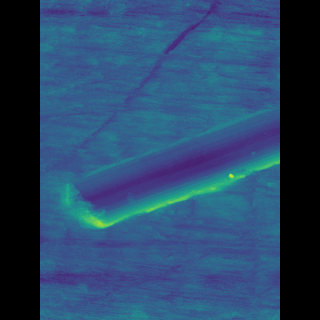Loch: (82, 104, 250, 230)
